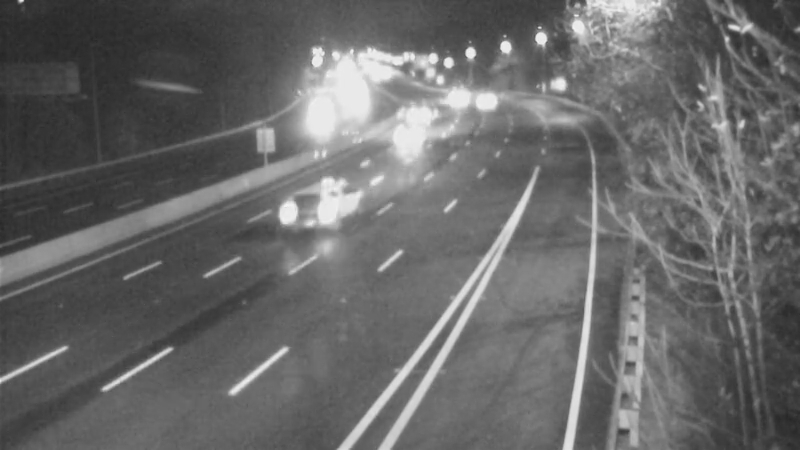vehicle: (266, 168, 346, 248), (429, 73, 479, 123), (457, 77, 507, 127), (392, 87, 442, 137), (384, 113, 434, 163), (294, 83, 344, 133)
